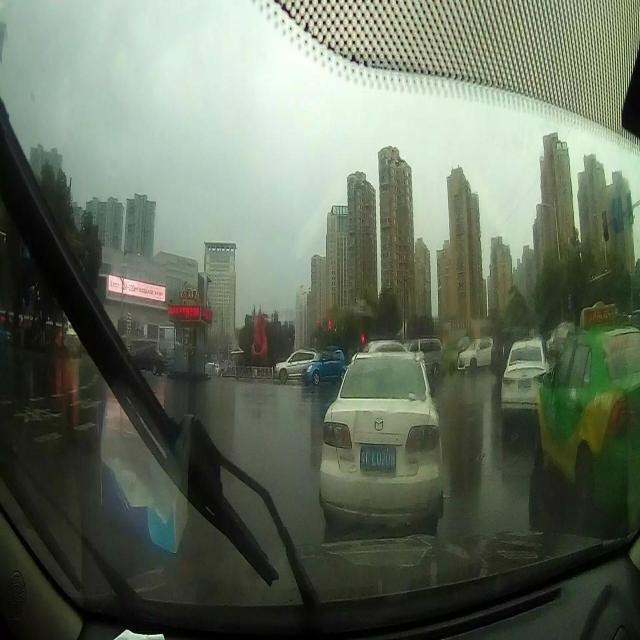car: (316, 336, 444, 529), (498, 334, 554, 410), (270, 346, 324, 386), (456, 334, 500, 371), (302, 348, 348, 382), (126, 342, 166, 370)
